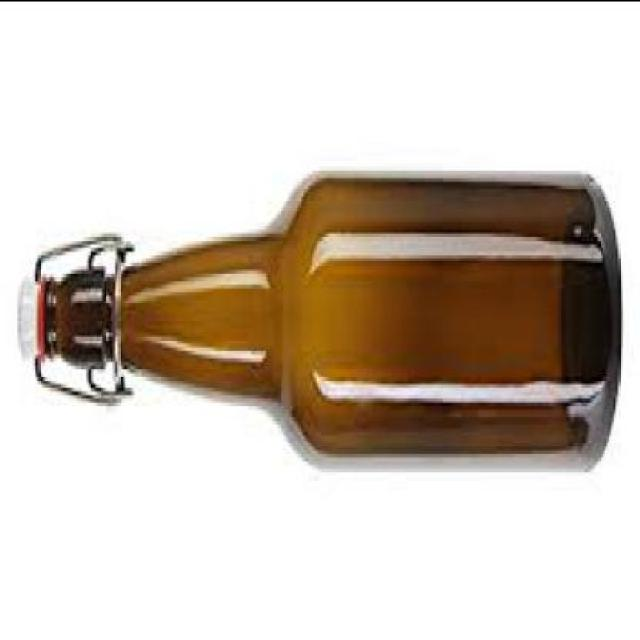GLASS: (45, 170, 620, 478)
PLASTIC: (15, 284, 40, 364)
